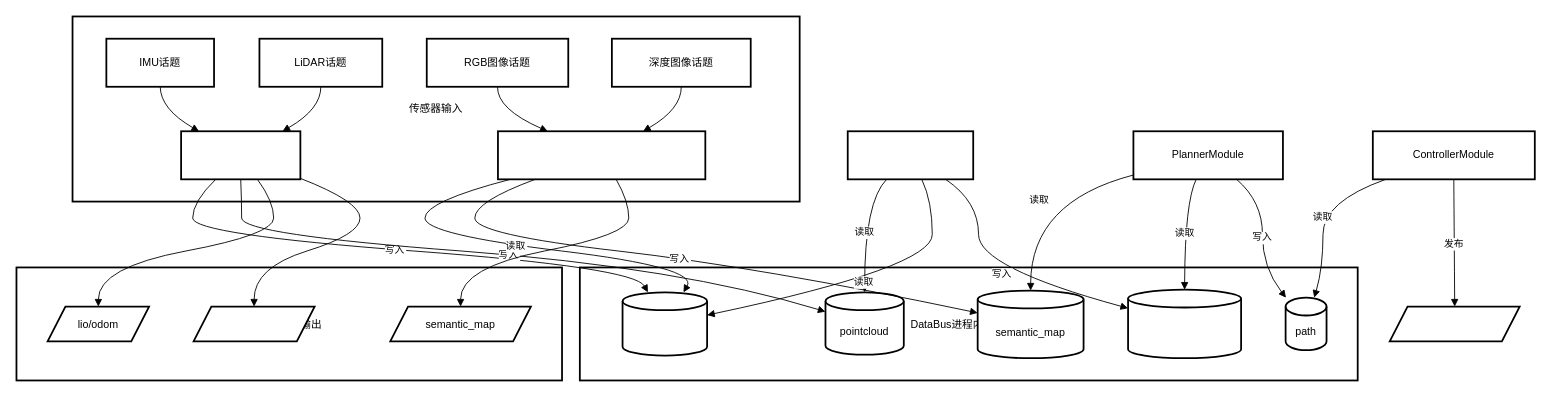
Some shapes in this 1550 by 396 pixel diagram are drawn without their labels. The centre of each missing label's shape, as x and y in pixels:
body_cloud: point 253,323
cmd_vel话题: point 1454,323
LioModule: point 240,155
optimized_pose: point 1184,323
PgoModule: point 910,155
robot_pose: point 664,323
SemanticMapperModule: point 601,155
